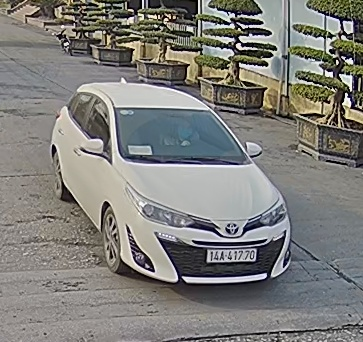vehicle plate: (204, 244, 263, 265)
